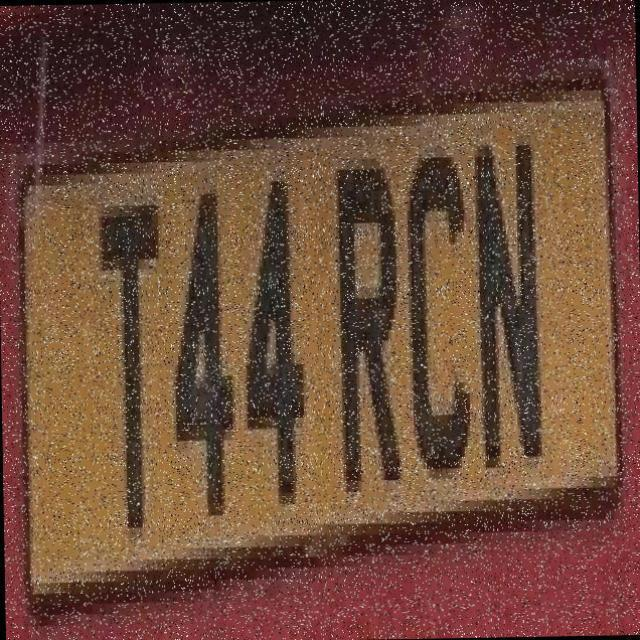License Plate: (4, 44, 632, 624)
